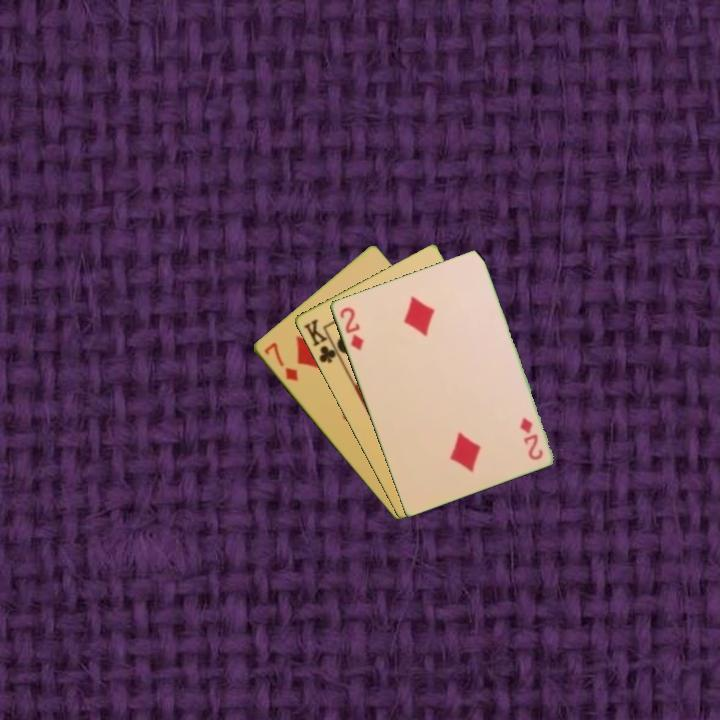2d: (336, 303, 366, 353), (516, 414, 545, 463)
7d: (260, 338, 301, 384)
Kc: (300, 315, 343, 366)
